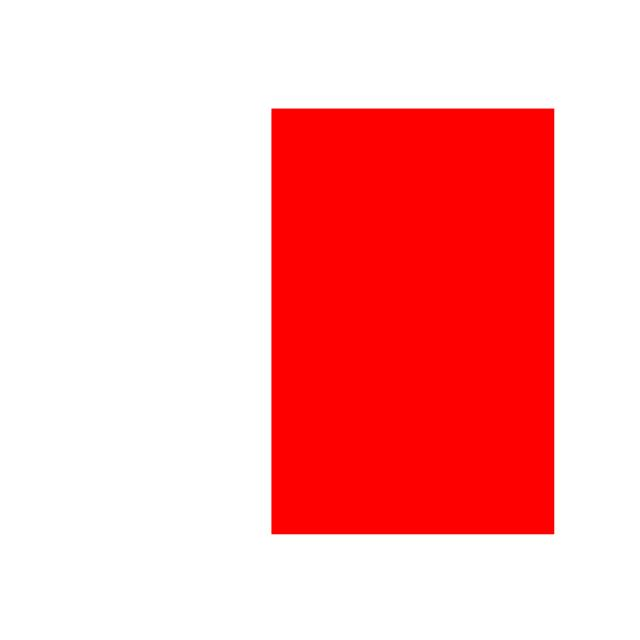Rectangle: (237, 64, 566, 566)
